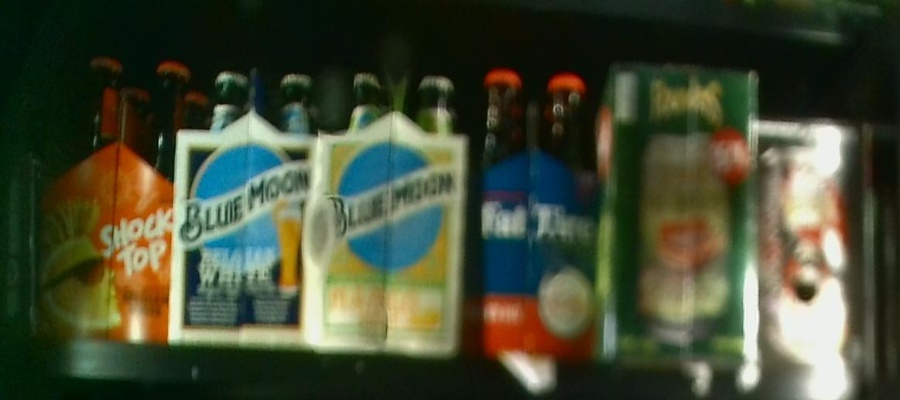bottle: (598, 58, 761, 360), (315, 65, 464, 359), (176, 53, 315, 351), (466, 62, 600, 361), (44, 51, 173, 343), (749, 116, 864, 365)
